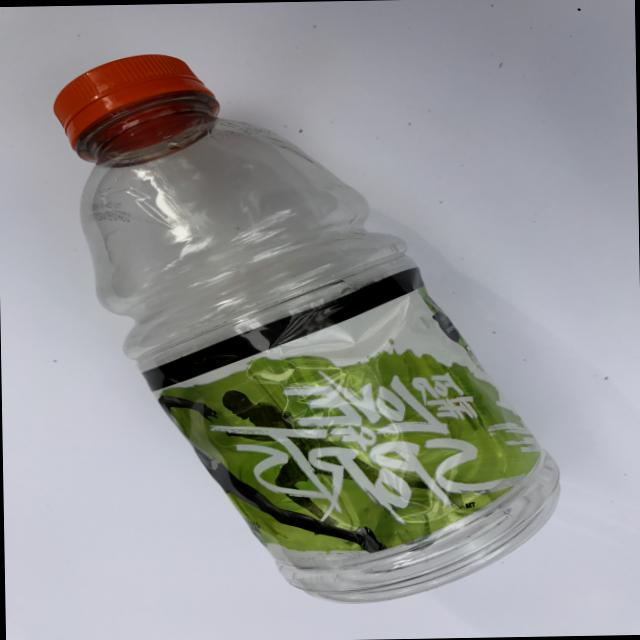Plastic: (37, 19, 640, 639)
